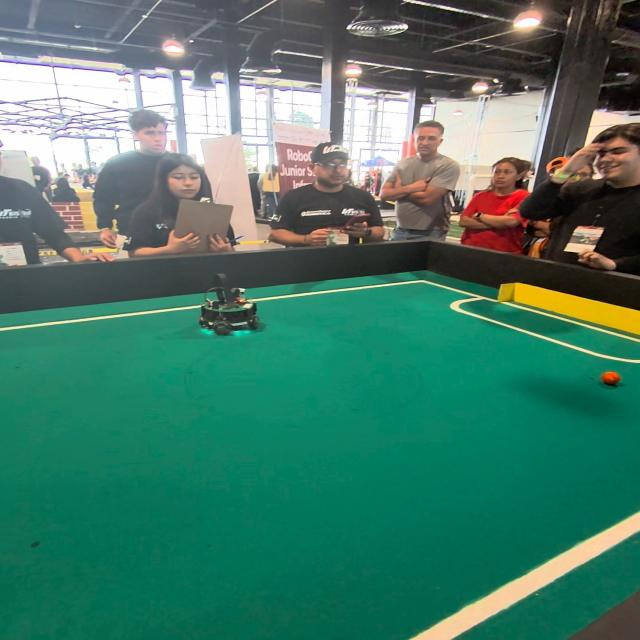Robot: (195, 270, 260, 339)
pelota: (599, 368, 621, 385)
